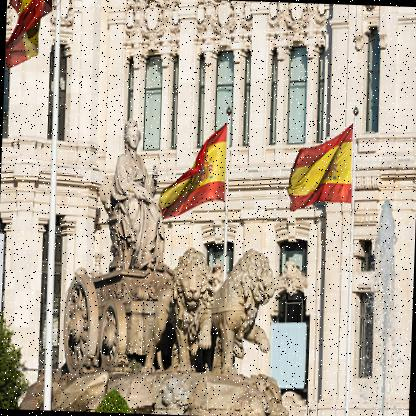de: (7, 1, 54, 71)
es: (159, 121, 230, 225), (288, 121, 354, 220)
